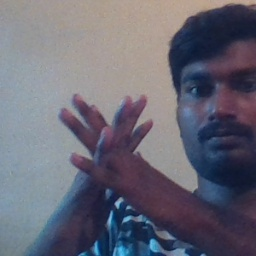W: (52, 87, 176, 230)
